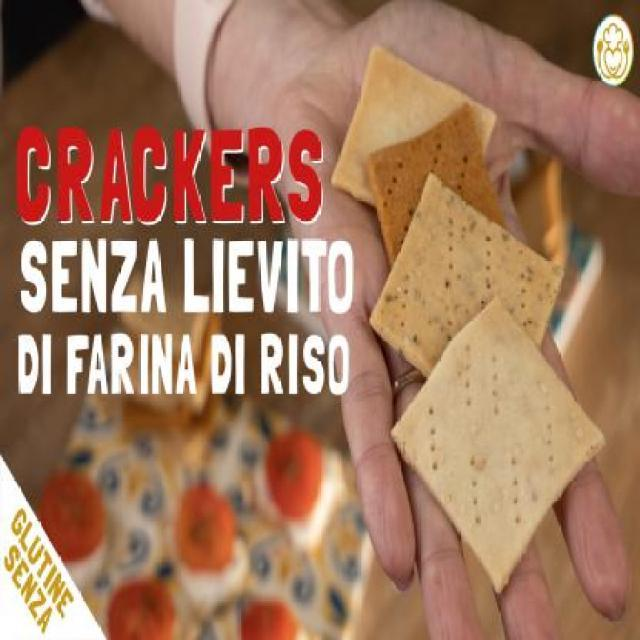Cracker packaged: (397, 298, 614, 588), (378, 174, 570, 393), (367, 110, 521, 286)
